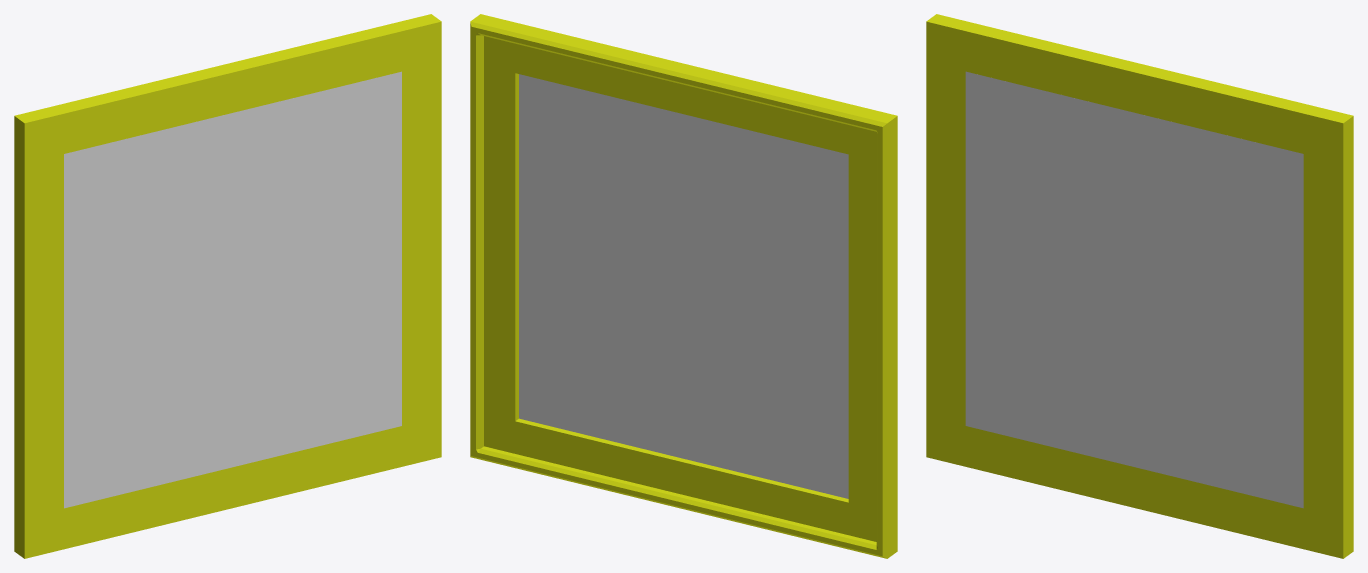
The model's file is frame_20x20.fbx.
3 views of the same model, side by side, from view 1: azimuth 30°, elevation 25°; view 2: azimuth 150°, elevation 25°; view 3: azimuth 330°, elevation 25° (orthographic).
Parts seen in each view (by area): view 1: canvas, Painting_20x20; view 2: canvas, Painting_20x20; view 3: canvas, Painting_20x20.
Boxes of the visible parts, x1,y1,x2,y2 form: canvas: (64,71,401,508); Painting_20x20: (14,14,441,558); canvas: (519,74,848,498); Painting_20x20: (470,14,897,558); canvas: (965,71,1303,508); Painting_20x20: (926,14,1353,558).
Bounding box in the file's own units: 0.4989 × 0.4979 × 0.025.
